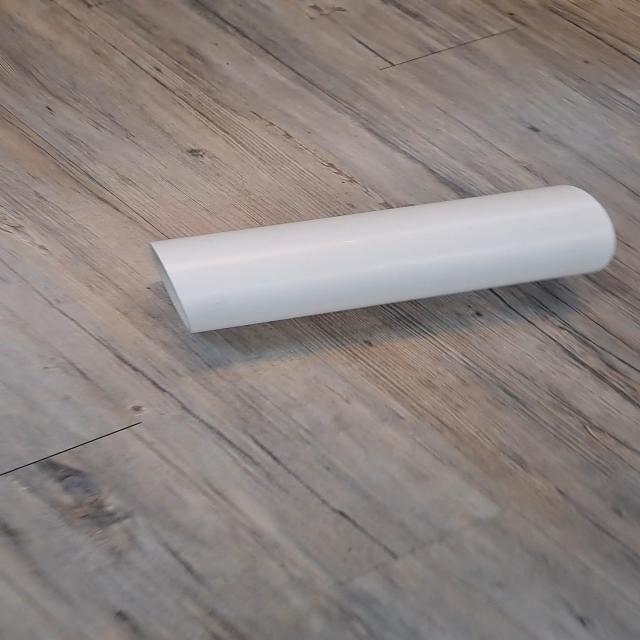CORAL: (143, 178, 622, 336)
